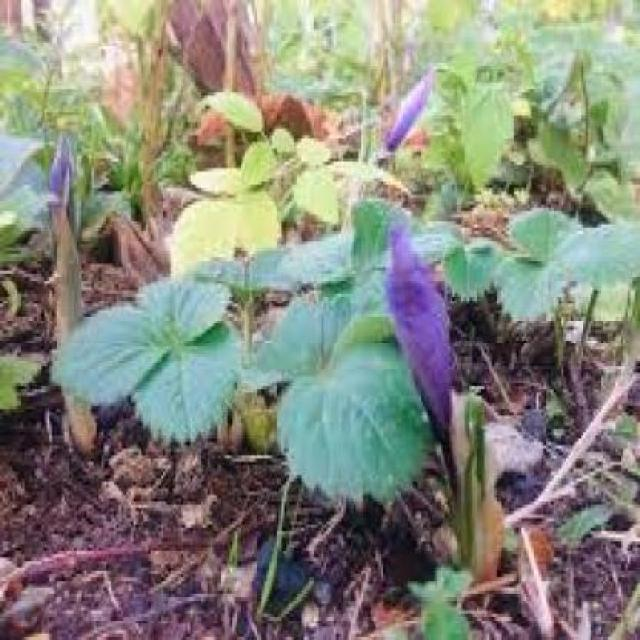Flower: (383, 216, 462, 461)
